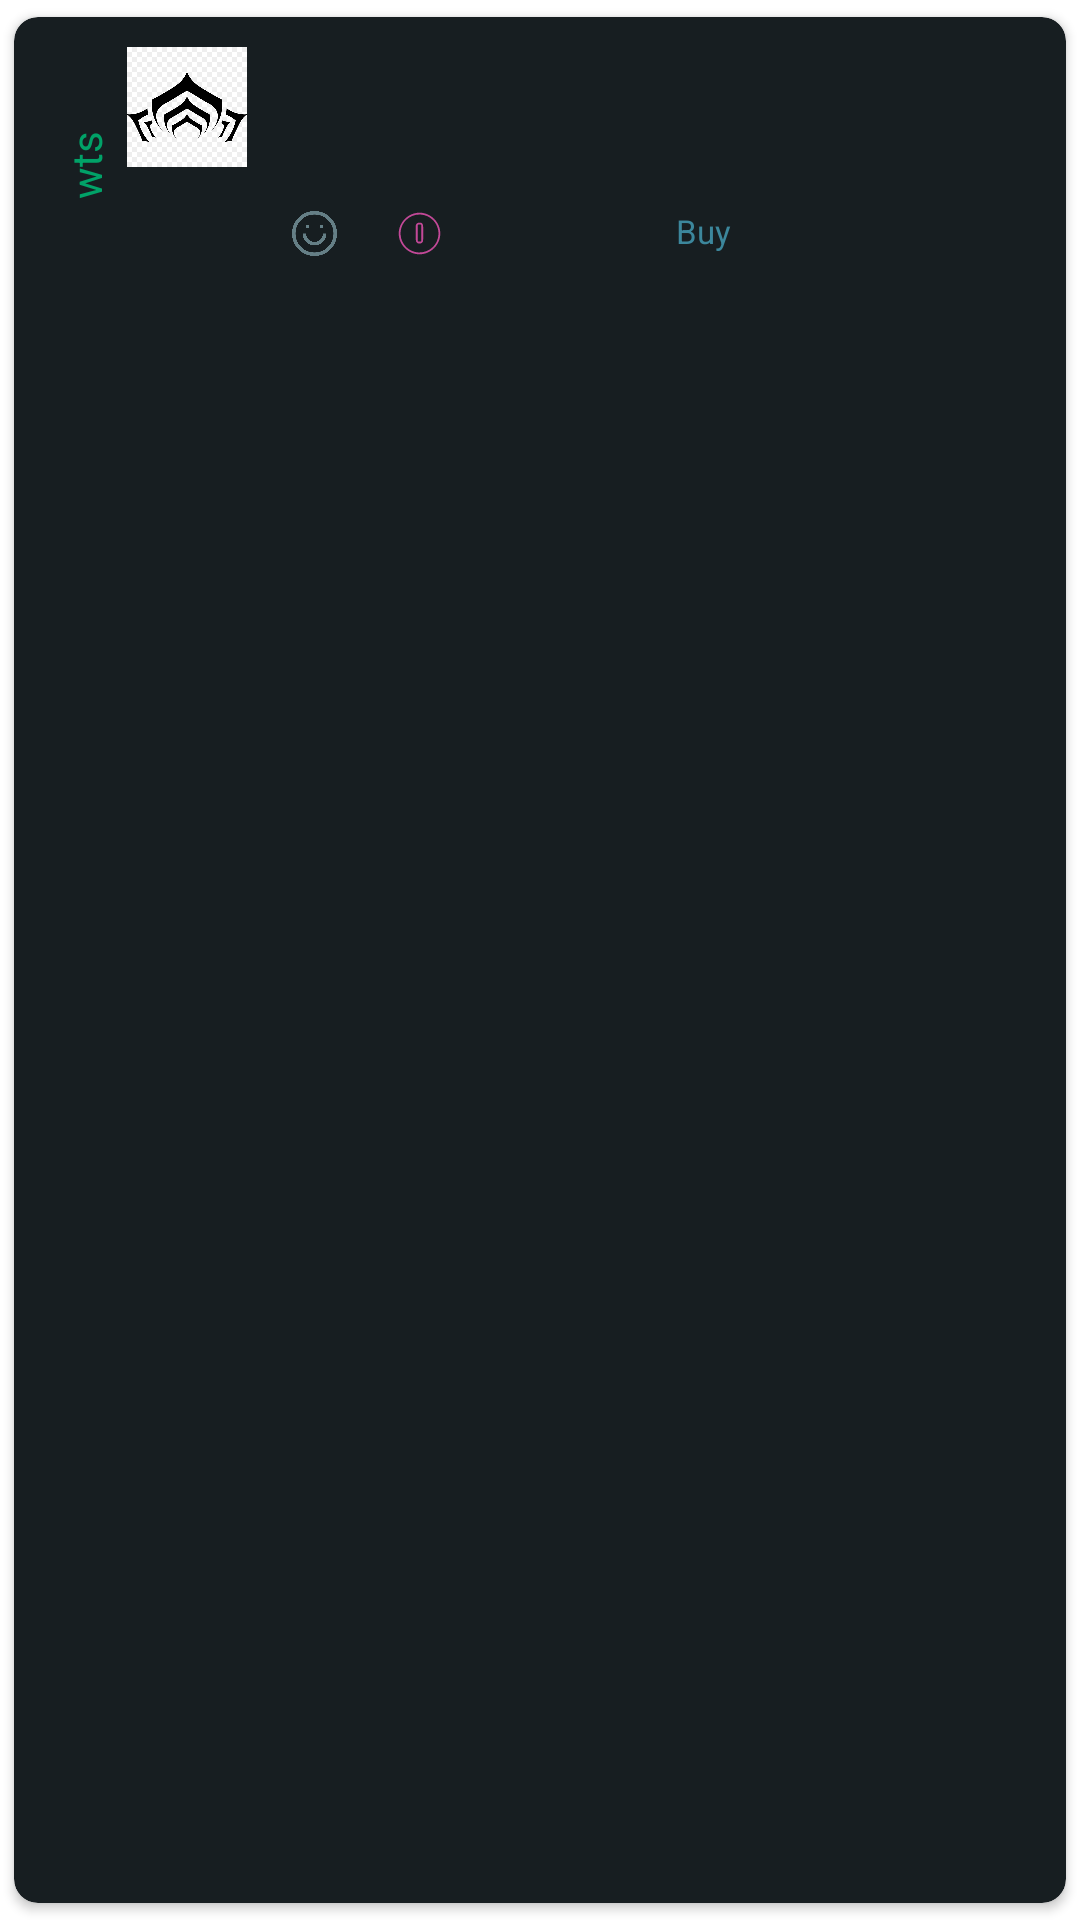

Screen size 1080x1920. Icon name, then its box in pixels as (x1, y1, x2, y2):
coin: (398, 212, 441, 255)
reputation happy: (292, 211, 337, 256)
